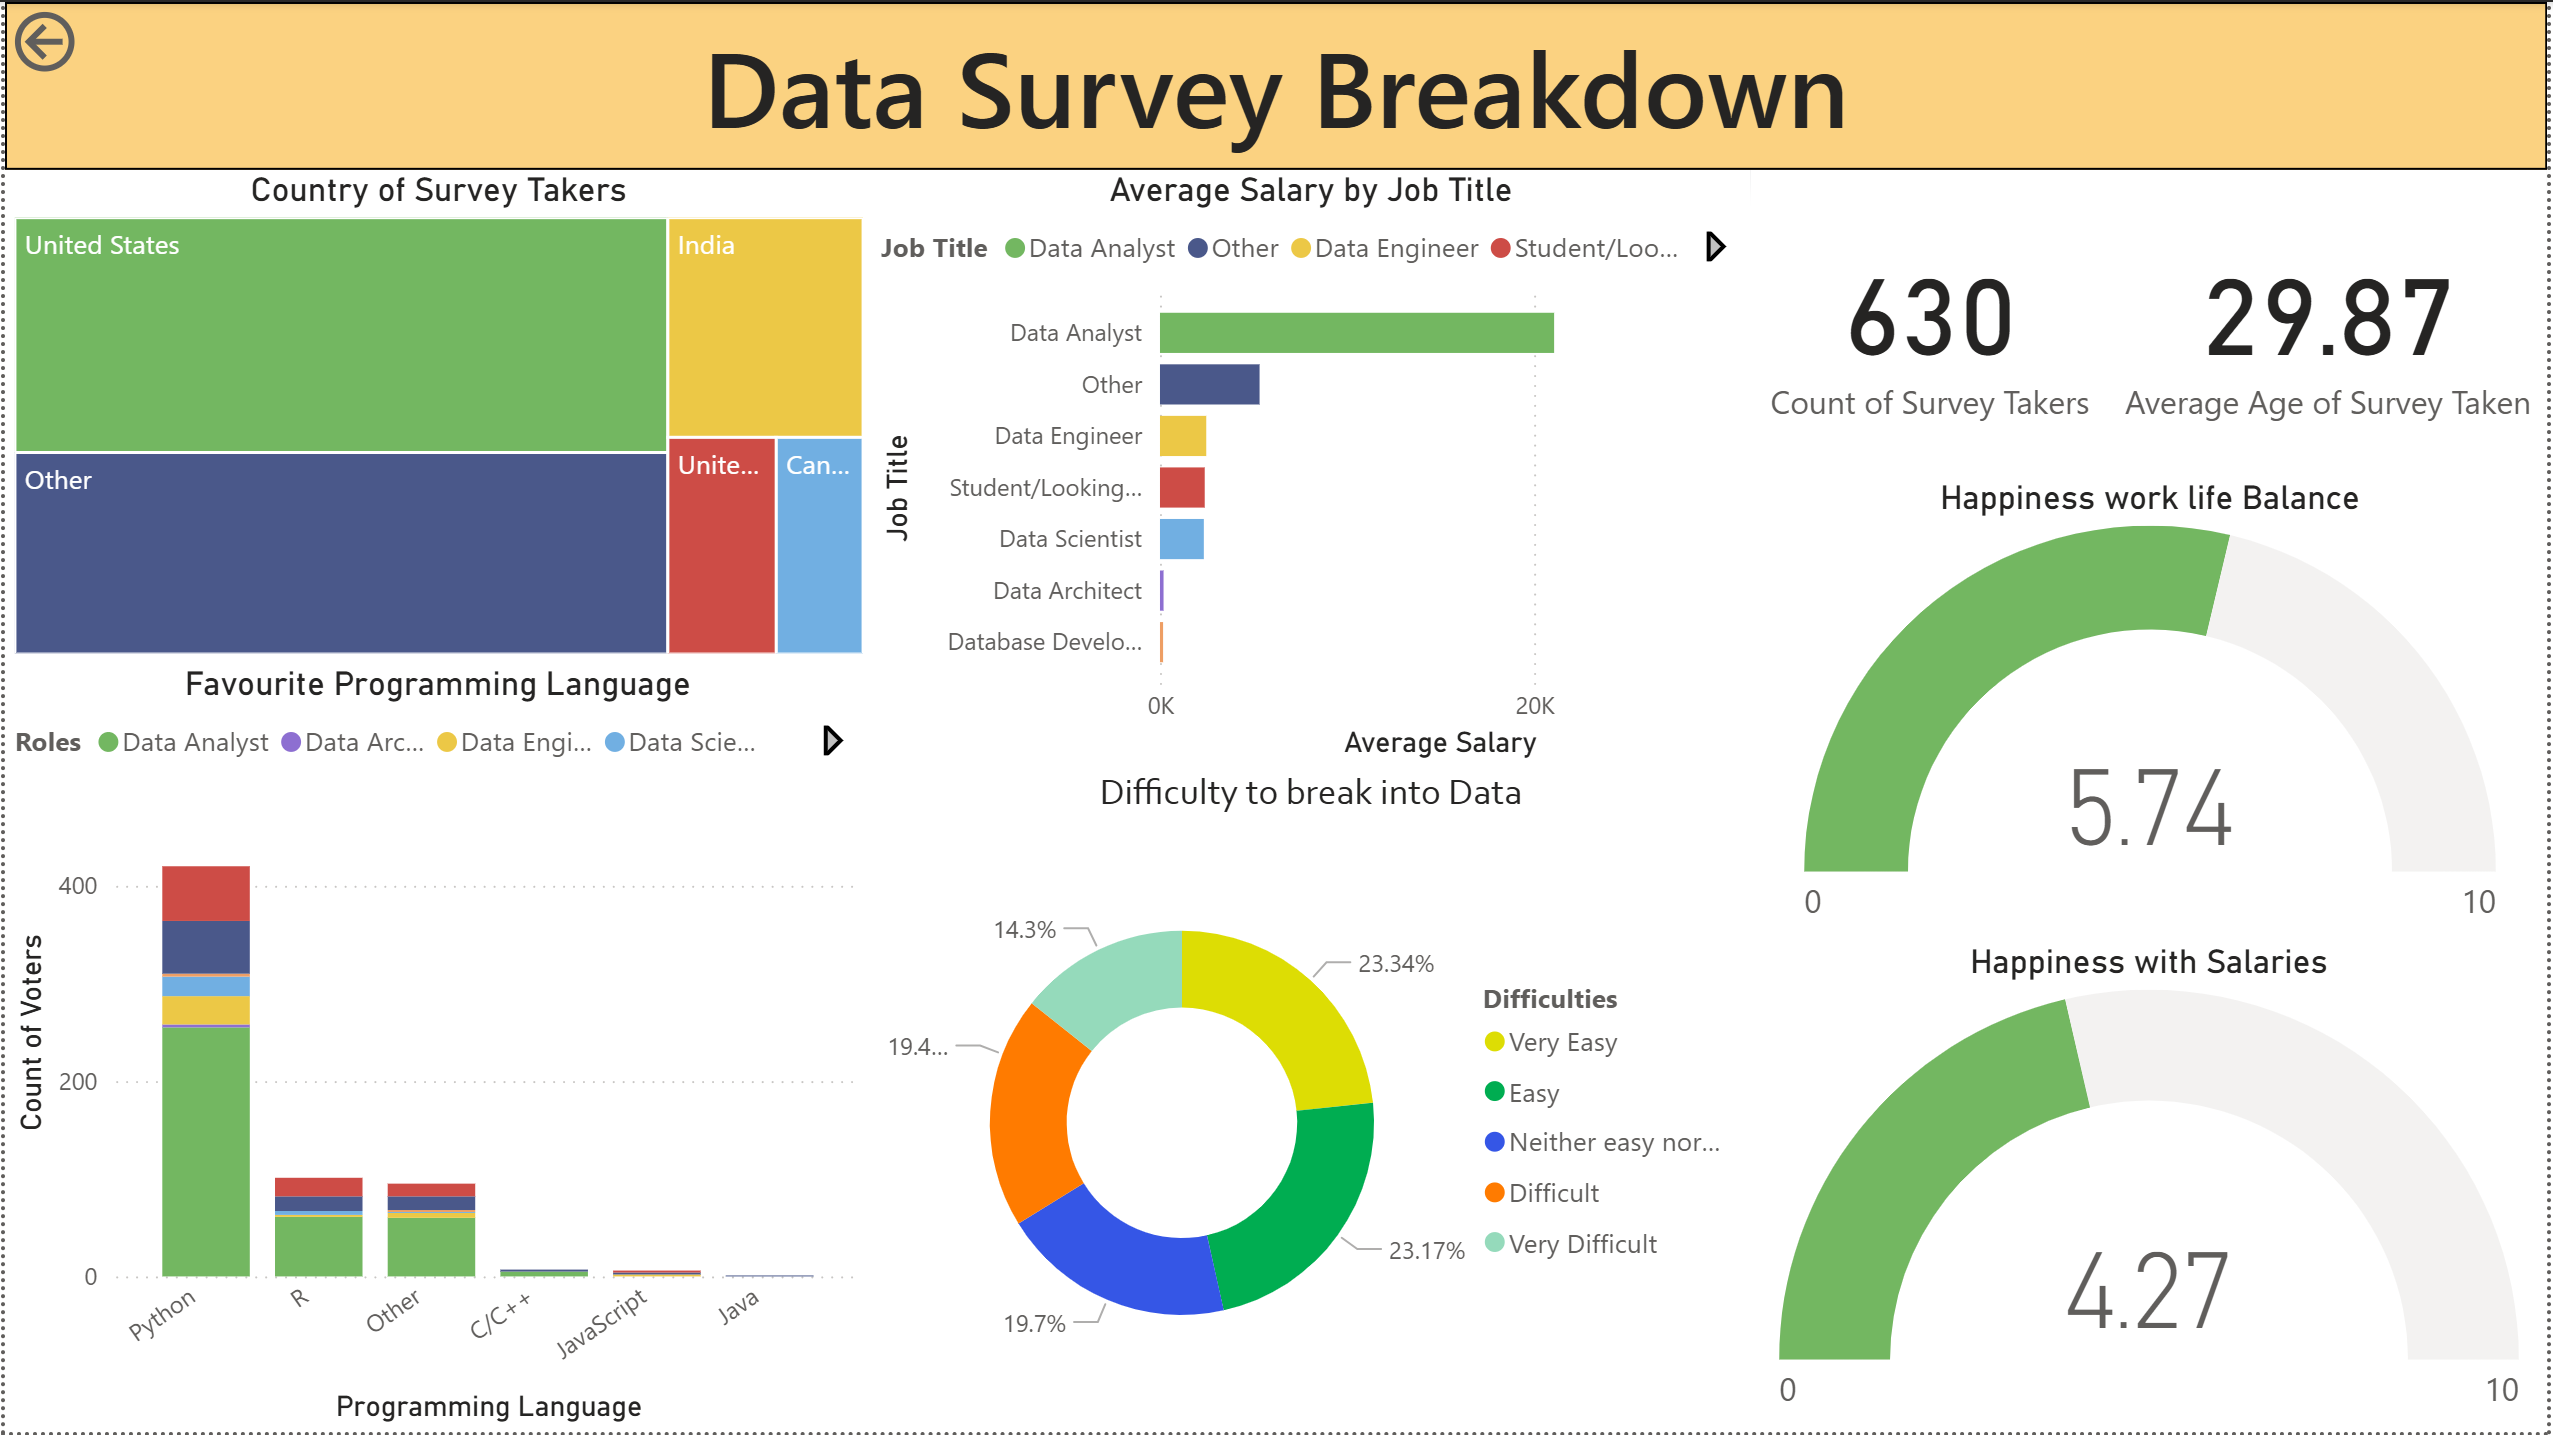

The page's visual inventory and layout, read from the dashboard file:
{"tool":"powerbi","page":{"name":"Page 1","canvas":[1280,720],"ordinal":0},"visuals":[{"type":"textbox","box":[0,0,1279.9,84.6],"z":0},{"type":"card","fields":{"Values":["Count(Data Professional Survey.Unique ID)"]},"box":[879.1,84.6,180.3,156.1],"z":1},{"type":"actionButton","box":[0,0,100,40],"z":2},{"type":"card","fields":{"Values":["Avg(Data Professional Survey.Q10 - Current Age)"]},"box":[1059.4,84.6,220.5,156.1],"z":3},{"type":"barChart","title":"Average Salary by Job Title","fields":{"Category":["Data Professional Survey.Q1 - Which Title Best Fits your Current Role?.1"],"Y":["Sum(Data Professional Survey.Average of salary)"],"Series":["Data Professional Survey.Q1 - Which Title Best Fits your Current Role?.1"]},"box":[436,84.6,443.1,301.1],"z":4},{"type":"columnChart","title":"Favourite Programming Language","fields":{"Category":["Data Professional Survey.Q5 - Favorite Programming Language.1"],"Y":["CountNonNull(Data Professional Survey.Unique ID)"],"Series":["Data Professional Survey.Q1 - Which Title Best Fits your Current Role?.1"]},"box":[0,333.3,436,386.7],"z":5},{"type":"treemap","title":"Country of Survey Takers","fields":{"Group":["Data Professional Survey.Q11 - Which Country do you live in?.1"],"Values":["CountNonNull(Data Professional Survey.Q11 - Which Country do you live in?.1)"]},"box":[0,84.6,437,248.7],"z":6},{"type":"gauge","title":"Happiness work life Balance","fields":{"Y":["Avg(Data Professional Survey.Q6 - How Happy are you in your Current Position with the following? (Work/Life Balance))"],"MinValue":["Min(Data Professional Survey.Q6 - How Happy are you in your Current Position with the following? (Work/Life Balance))1"],"MaxValue":["Max(Data Professional Survey.Q6 - How Happy are you in your Current Position with the following? (Work/Life Balance))2"]},"box":[880.1,239.7,399.8,234.6],"z":7},{"type":"gauge","title":"Happiness with  Salaries","fields":{"Y":["Avg(Data Professional Survey.Q6 - How Happy are you in your Current Position with the following? (Salary))"],"MinValue":["Min(Data Professional Survey.Q6 - How Happy are you in your Current Position with the following? (Salary))"],"MaxValue":["Max(Data Professional Survey.Q6 - How Happy are you in your Current Position with the following? (Salary))"]},"box":[879.1,473.3,400.8,246.7],"z":8},{"type":"donutChart","title":"Difficulty to break into Data","fields":{"Category":["Data Professional Survey.Q7 - How difficult was it for you to break into Data?"],"Y":["Avg(Data Professional Survey.Average of salary)"]},"box":[436,385.7,443.1,334.3],"z":9}]}

Visuals, with their boxes in screenshot pixels (x1, y1, x2, y2), scaled from the page's 1280x720 canvas onto the 2553x1435 screenshot:
textbox: <box>0,0,2552,169</box>
card - Count(Data Professional Survey.Unique ID): <box>1753,169,2113,480</box>
actionButton: <box>0,0,199,80</box>
card - Avg(Data Professional Survey.Q10 - Current Age): <box>2113,169,2552,480</box>
"Average Salary by Job Title" barChart: <box>870,169,1753,769</box>
"Favourite Programming Language" columnChart: <box>0,664,870,1434</box>
"Country of Survey Takers" treemap: <box>0,169,872,664</box>
"Happiness work life Balance" gauge: <box>1755,478,2552,945</box>
"Happiness with  Salaries" gauge: <box>1753,943,2552,1434</box>
"Difficulty to break into Data" donutChart: <box>870,769,1753,1434</box>
